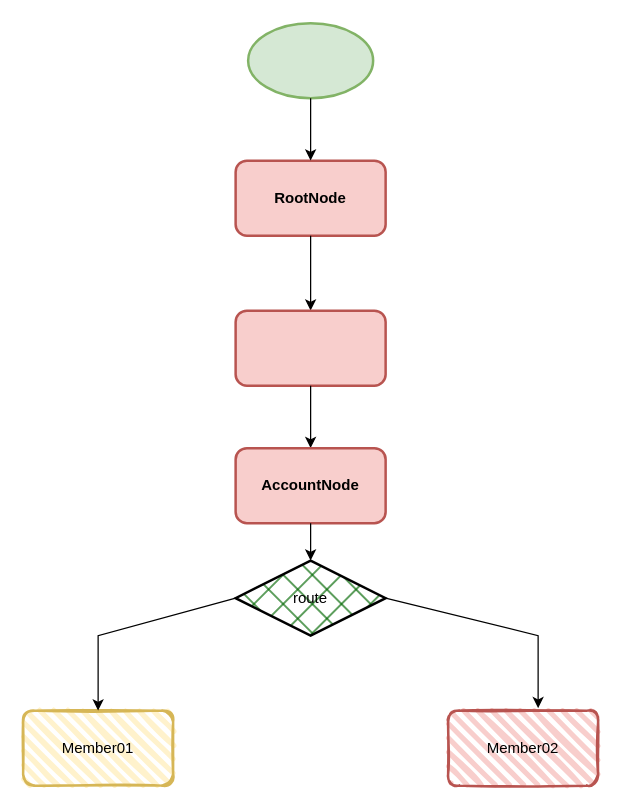
This 620x808 diagram has some shape labels left out. Here are the shapes that lost their labels. From the top down, the centre of each, then its label:
At (310,60): "start".
At (310,347): "SwitchNode".
